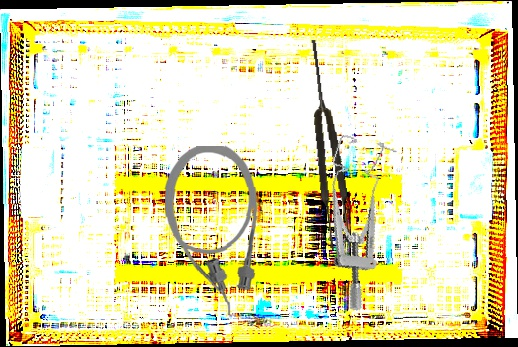Cannula: (163, 144, 261, 318)
Speculum: (292, 130, 412, 313)
Tissue Forceps: (302, 38, 354, 251)
